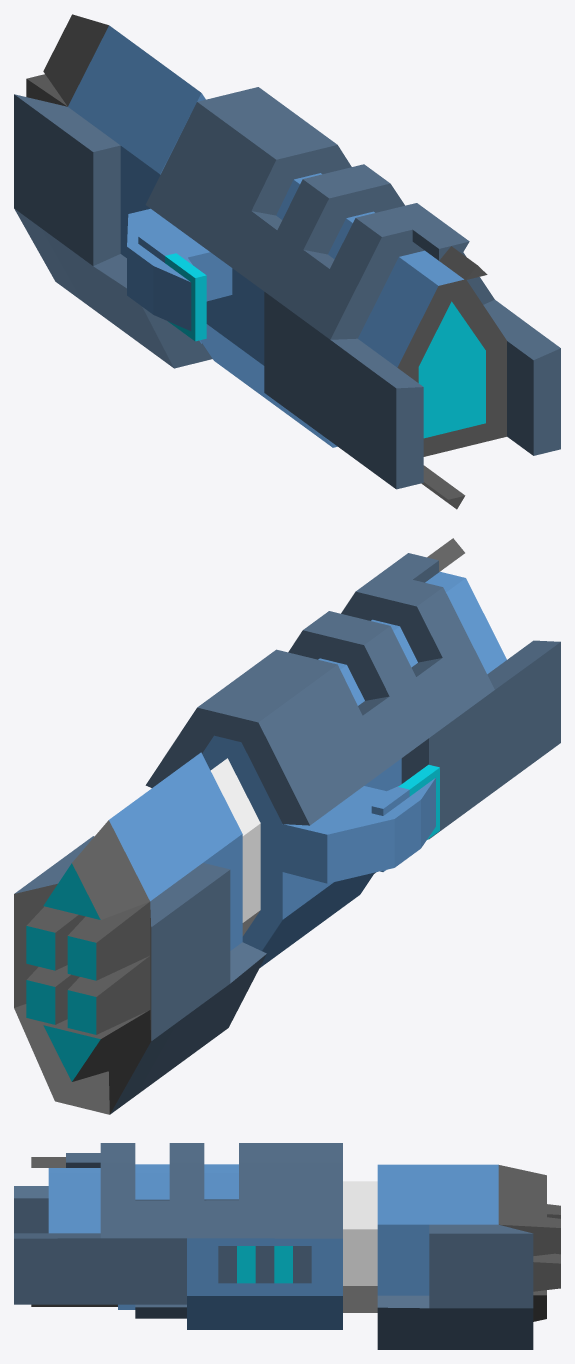
The model's file is block_battleship.fbx.
3 views of the same model, one above another, from view 1: azimuth 30°, elevation 25°; view 2: azimuth 150°, elevation 25°; view 3: azimuth 270°, elevation 25° (orthographic). The views are drawn at different scales.
Visible parts, largest first — view 1: block_battleship; view 2: block_battleship; view 3: block_battleship.
Part boxes in pixels (x1,y1,x2,y2): block_battleship: (14, 14, 560, 509); block_battleship: (14, 538, 560, 1114); block_battleship: (14, 1143, 560, 1349).
Size of the model in its own units: 47.26 by 59.94 by 158.
1 material, 1 textured.
